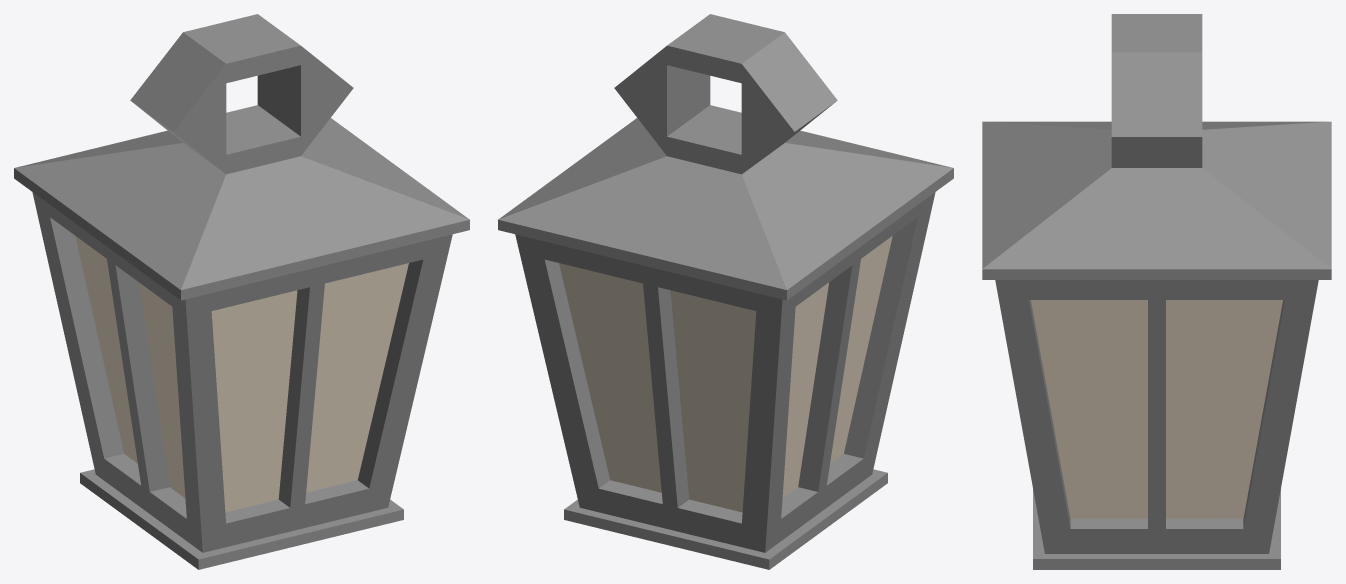
Rendered from Lampiao.fbx.
3 renders of one model, left to right at view 1: azimuth 30°, elevation 25°; view 2: azimuth 150°, elevation 25°; view 3: azimuth 270°, elevation 25°, orthographic. The views are drawn at different scales.
Visible parts, largest first — view 1: Lampada; view 2: Lampada; view 3: Lampada.
Part boxes in pixels (x1,y1,x2,y2): Lampada: (14, 14, 469, 569); Lampada: (498, 14, 953, 569); Lampada: (982, 14, 1331, 569).
Bounding box in the file's own units: 29 × 44.36 × 29.
